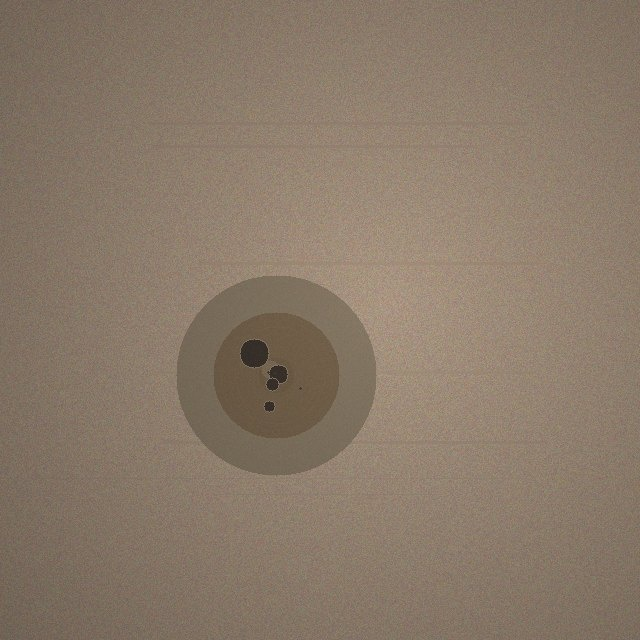shrinkage: (176, 275, 376, 475)
